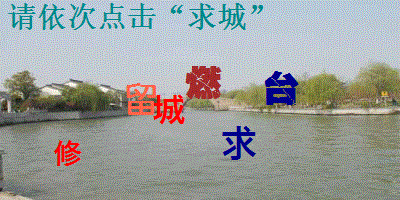text: (221, 125, 258, 162), (185, 65, 223, 100), (263, 70, 299, 106), (151, 93, 187, 125), (124, 82, 156, 116), (53, 139, 82, 167)
